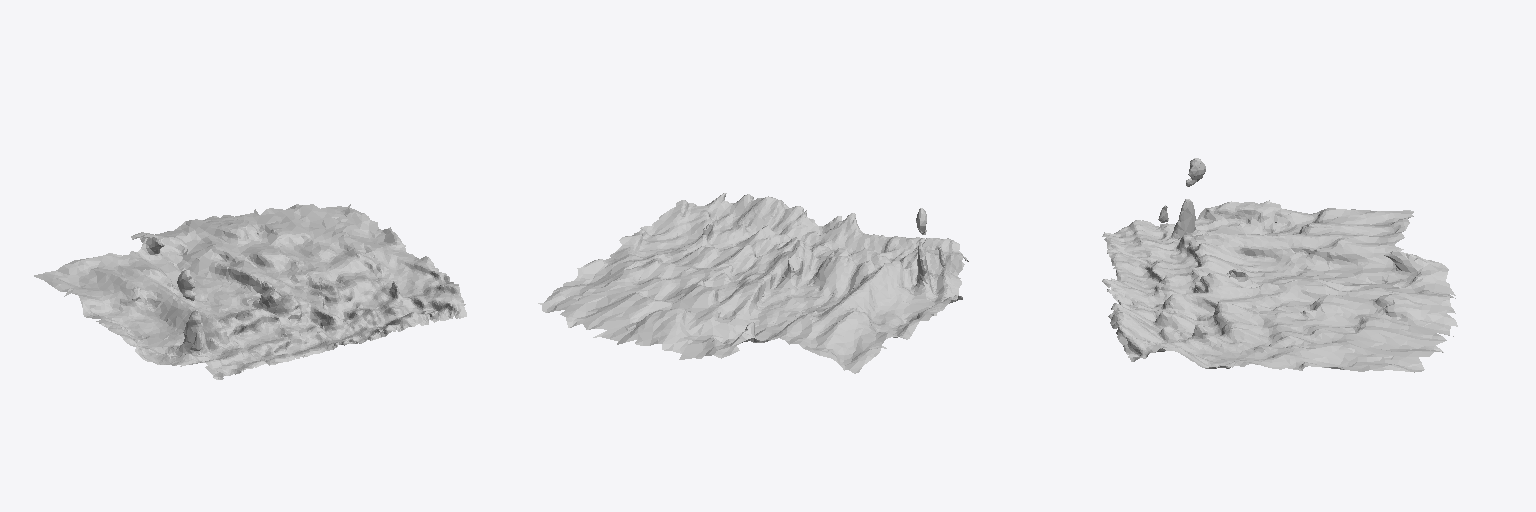
File: Apr.18, 01. Ilyich plant in Mariupol, Ukraine.obj
3 renders of one model, left to right at view 1: azimuth 30°, elevation 25°; view 2: azimuth 150°, elevation 25°; view 3: azimuth 270°, elevation 25°, orthographic.
Parts seen in each view (by area): view 1: mariupol_twitter01_3dmodel_e; view 2: mariupol_twitter01_3dmodel_e; view 3: mariupol_twitter01_3dmodel_e.
Part boxes in pixels (x1,y1,x2,y2): mariupol_twitter01_3dmodel_e: (34,204,466,379); mariupol_twitter01_3dmodel_e: (538,193,968,373); mariupol_twitter01_3dmodel_e: (1102,158,1457,372).
Bounding box in the file's own units: 18.57 × 4.81 × 17.6.